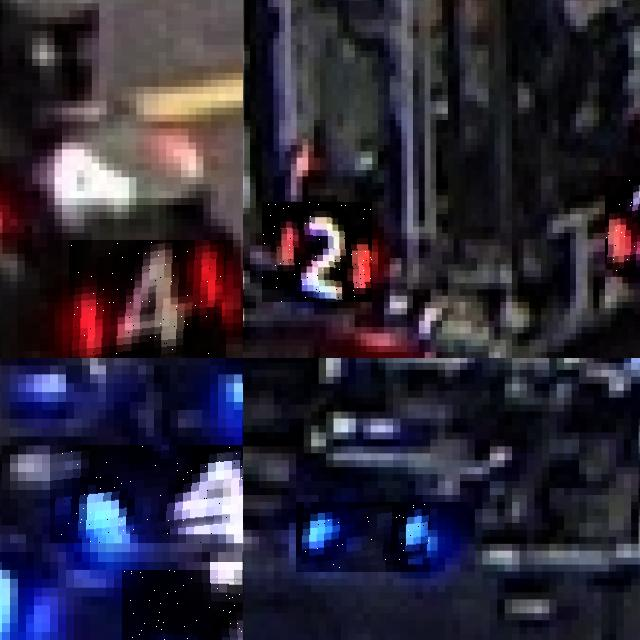B2: (296, 502, 430, 572)
B4: (50, 445, 243, 543), (122, 570, 243, 640)
R2: (262, 202, 372, 302), (605, 176, 640, 276)
R4: (69, 240, 225, 358)
